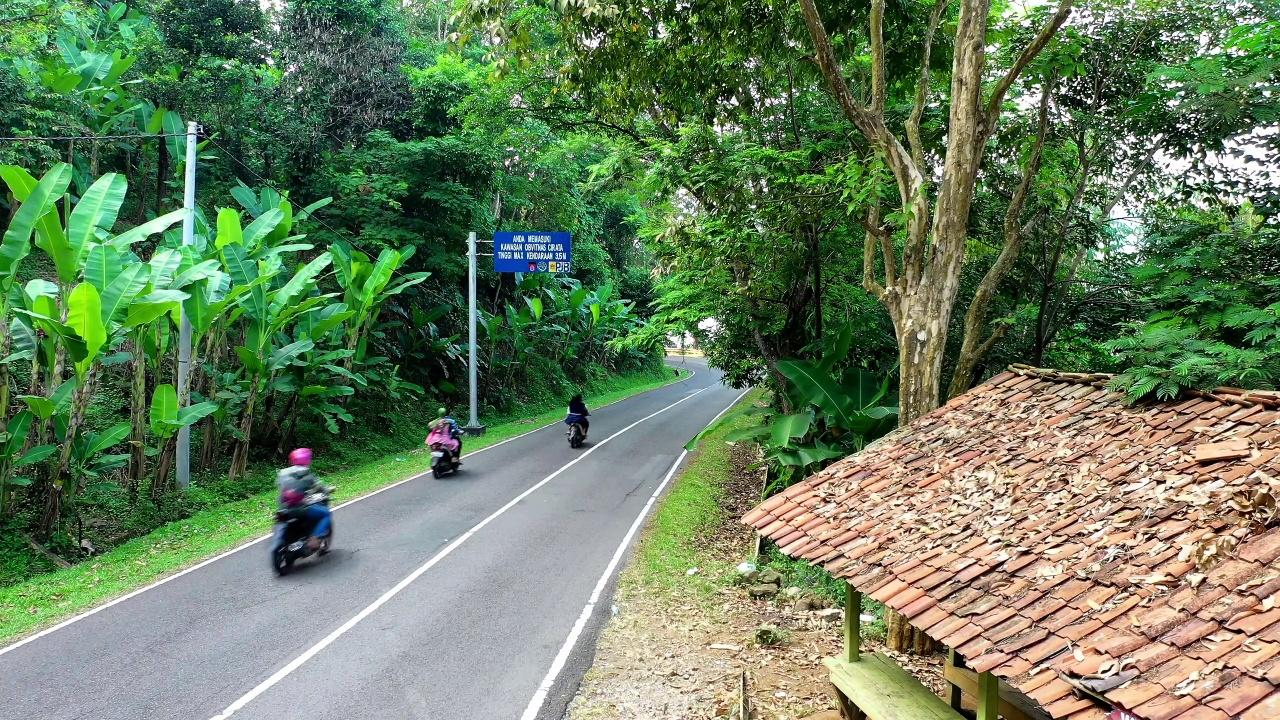Helmet: (277, 448, 331, 549), (431, 408, 462, 464), (565, 394, 589, 438)
Motor: (271, 512, 332, 574), (430, 442, 459, 478), (566, 422, 585, 448)
